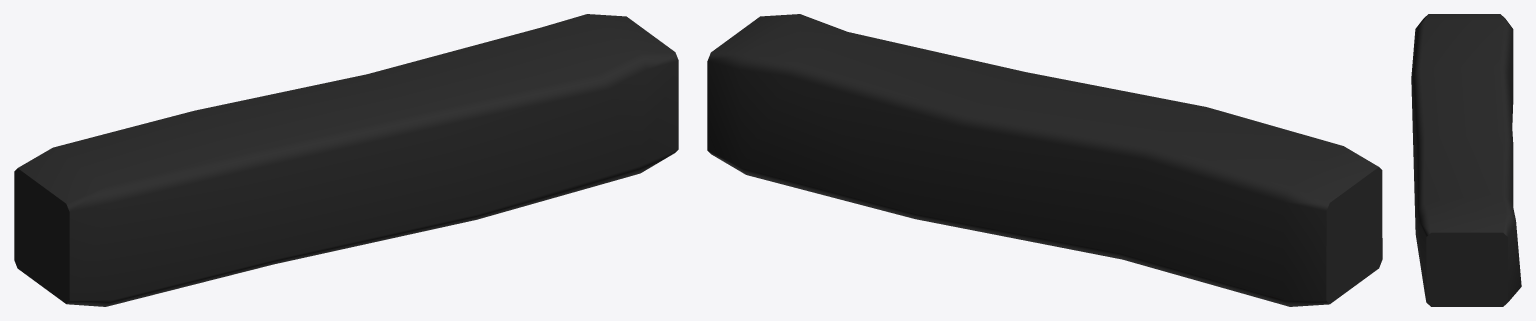
The model's file is ShortBeam.fbx.
The picture shows the model from 3 angles, left to right: view 1: azimuth 30°, elevation 25°; view 2: azimuth 150°, elevation 25°; view 3: azimuth 270°, elevation 25°; orthographic projection. The views are drawn at different scales.
Parts seen in each view (by area): view 1: polySurface7; view 2: polySurface7; view 3: polySurface7.
Part boxes in pixels (box(x1,y1,x2,y2)): polySurface7: box(14, 14, 678, 306); polySurface7: box(707, 14, 1382, 306); polySurface7: box(1411, 14, 1521, 306).
Size of the model in its own units: 5.31 by 1.07 by 1.13.
